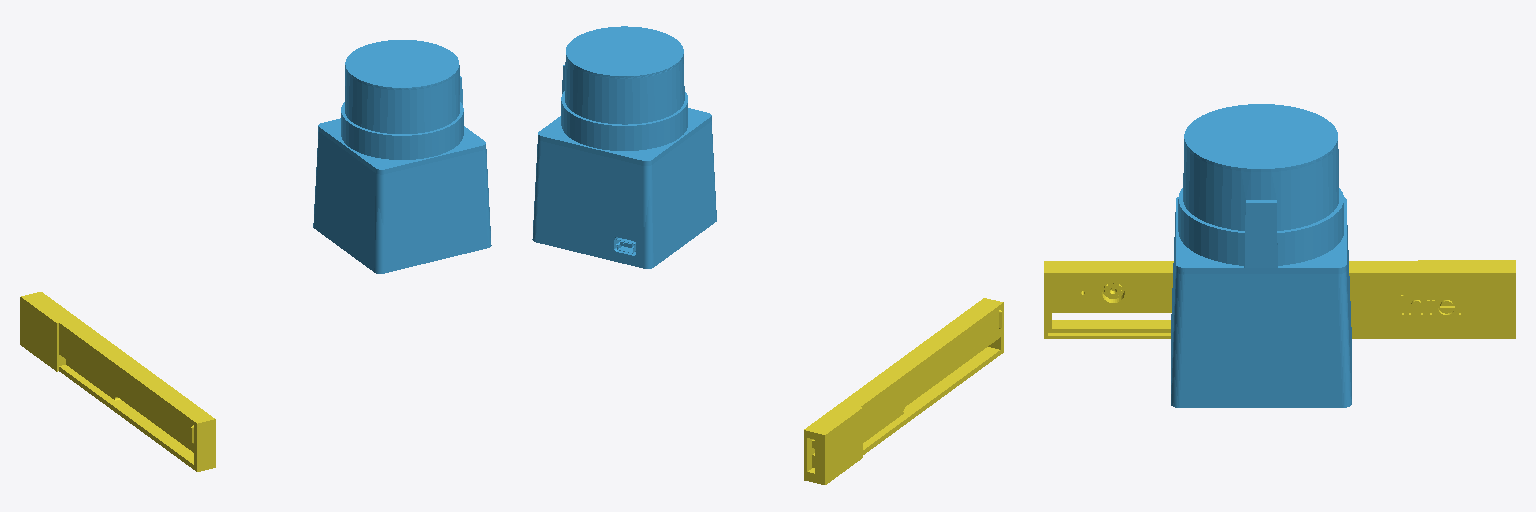
robot.urdf — intelaero:
<?xml version="1.0"?>
<robot name="intelaero">

  <link name="bintel">
    <visual>
      <origin rpy="0.0 0 1.5707" xyz="0 0 0.008"/>
      <geometry>
        <mesh filename="package://bintel_ros/meshes/inteldrone_frame.stl" scale="0.001 0.001 0.001"/>
      </geometry>
    </visual>
  </link>
  
  
  <link name="laser">
	<visual>
      <origin rpy="1.5707  0 1.5707" xyz="0 -0.025 -0.04"/>
      <geometry>
        <mesh filename="package://bintel_ros/meshes/hokuyo_urg04lx.STL" scale="0.001 0.001 0.001"/>
      </geometry>     
    </visual>
  </link>
  
  <joint name="laser_to_bintel" type="fixed">
    <parent link="bintel"/>
    <child link="laser"/>
    <origin rpy="0 0 3.1415" xyz="0.03 0.0 0.07"/>
  </joint>
  
  
 <link name="base_link">
  </link>
  <joint name="bintel_to_base_link" type="fixed">
    <parent link="bintel"/>
    <child link="base_link"/>
    <origin rpy="0 0 0" xyz="0 0 0"/>
  </joint>
  
    <link name="camera_link">
	<visual>
      <origin rpy="1.5707 0 1.5707" xyz="0.0 -0.07 0.000"/>
      <geometry>
        <mesh filename="package://bintel_ros/meshes/r200.STL" scale="0.001 0.001 0.001"/>
      </geometry>
    </visual>
  </link>

  <joint name="lidar_bintel" type="fixed">
    <parent link="bintel"/>
    <child link="camera_link"/>
    <origin rpy="0 0 3.141592" xyz="-0.11 0.0 -0.014"/>
  </joint>
  
  
  
  <link name="engineUR">
  </link>
  <joint name="bintel_t0_engineUR" type="fixed">
    <parent link="bintel"/>
    <child link="engineUR"/>
    <origin rpy="0 0 3.1415" xyz="-0.128 0.128 0.02"/>
  </joint>
  
  <link name="engineUL">
  </link>
  <joint name="bintel_t0_engineUL" type="fixed">
    <parent link="bintel"/>
    <child link="engineUL"/>
    <origin rpy="0 0 3.1415" xyz="-0.128 -0.128 0.02"/>
  </joint>


 <link name="engineLR">
  </link>
  <joint name="bintel_t0_engineLR" type="fixed">
    <parent link="bintel"/>
    <child link="engineLR"/>
    <origin rpy="0 0 3.1415" xyz="0.128 0.128 0.02"/>
  </joint>
  
  <link name="engineLL">
  </link>
  <joint name="bintel_t0_engineLL" type="fixed">
    <parent link="bintel"/>
    <child link="engineLL"/>
    <origin rpy="0 0 3.1415" xyz="0.128 -0.128 0.02"/>
  </joint>

</robot>

--- Render facts (derived) ---
3 views of the same robot in one strip: view 1: azimuth 30°, elevation 25°; view 2: azimuth 150°, elevation 25°; view 3: azimuth 270°, elevation 25° (orthographic).
Robot: intelaero — 8 links, 7 joints (7 fixed); root link bintel; default pose: all joints at 0.
Links seen in each view (by area): view 1: laser, camera_link; view 2: laser, camera_link; view 3: laser, camera_link.
Boxes of the visible links, x1,y1,x2,y2 form: laser: (313,40,491,273); camera_link: (20,292,215,471); laser: (532,26,716,268); camera_link: (804,298,1003,484); laser: (1171,104,1351,407); camera_link: (1044,260,1515,338).
Bounding box of the posed robot: 0.1489 × 0.13 × 0.1152 m (x, y, z).
Meshes: 3 distinct files referenced, 2 mesh visuals loaded (2 binary STL); not drawn: 1 (reference not matched to a file when rendering).